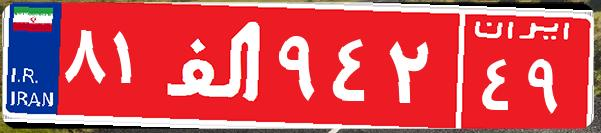1: (110, 28, 158, 105)
2: (385, 28, 445, 110)
4: (330, 28, 385, 110), (475, 38, 525, 113)
8: (57, 26, 110, 107)
9: (273, 28, 330, 110), (525, 38, 570, 115)
الف: (158, 15, 273, 115)
